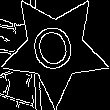O_S: (28, 18, 82, 80)
